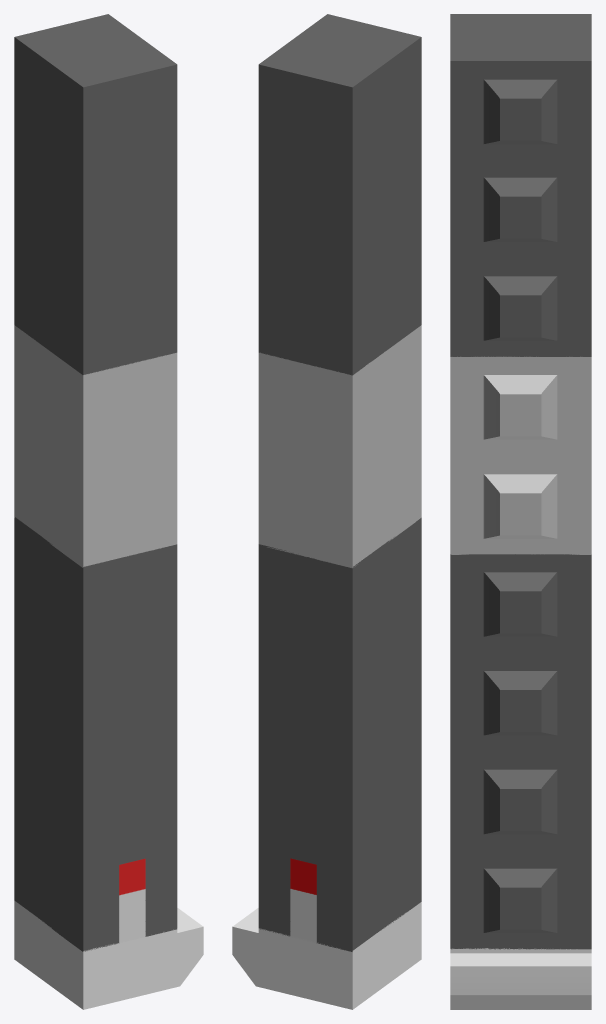
File: Gate_10stack.fbx
3 views of the same model, side by side, from view 1: azimuth 30°, elevation 25°; view 2: azimuth 150°, elevation 25°; view 3: azimuth 270°, elevation 25° (orthographic). The views are drawn at different scales.
Visible parts, largest first — view 1: Stack09, Stack03, Stack08, Stack06, Stack07, Stack01, Stack04, Stack02, Stack05, BottomStack; view 2: Stack09, Stack03, Stack07, Stack08, Stack06, Stack05, Stack02, Stack01, Stack04, BottomStack; view 3: Stack09, Stack05, Stack08, Stack01, Stack06, Stack07, Stack03, Stack02, Stack04, BottomStack.
Part boxes in pixels (bbox=[...]): Stack09: bbox=[14, 14, 177, 183]; Stack03: bbox=[14, 613, 177, 759]; Stack08: bbox=[14, 132, 177, 278]; Stack06: bbox=[14, 325, 177, 471]; Stack07: bbox=[14, 229, 177, 374]; Stack01: bbox=[14, 805, 177, 951]; Stack04: bbox=[14, 517, 177, 662]; Stack02: bbox=[14, 709, 177, 855]; Stack05: bbox=[14, 421, 177, 567]; BottomStack: bbox=[14, 900, 203, 1009]; Stack09: bbox=[258, 14, 421, 183]; Stack03: bbox=[258, 613, 421, 759]; Stack07: bbox=[258, 229, 421, 375]; Stack08: bbox=[258, 132, 421, 279]; Stack06: bbox=[258, 325, 421, 471]; Stack05: bbox=[258, 421, 421, 568]; Stack02: bbox=[258, 709, 421, 855]; Stack01: bbox=[258, 806, 421, 951]; Stack04: bbox=[258, 517, 421, 662]; BottomStack: bbox=[232, 902, 421, 1009]; Stack09: bbox=[450, 14, 591, 160]; Stack05: bbox=[450, 455, 591, 554]; Stack08: bbox=[450, 159, 591, 258]; Stack01: bbox=[450, 850, 591, 949]; Stack06: bbox=[450, 356, 591, 455]; Stack07: bbox=[450, 257, 591, 356]; Stack03: bbox=[450, 653, 591, 751]; Stack02: bbox=[450, 751, 591, 849]; Stack04: bbox=[450, 554, 591, 652]; BottomStack: bbox=[450, 948, 591, 1009].
Bounding box in the file's own units: 0.7384 × 5.41 × 0.7333.
